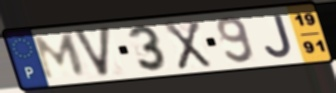3: (126, 23, 169, 73)
9: (215, 16, 255, 65)
J: (262, 12, 295, 60)
M: (32, 32, 88, 81)
V: (70, 24, 113, 79)
X: (162, 19, 214, 72)
